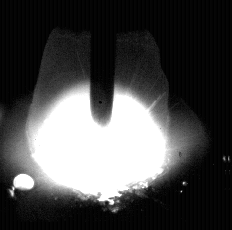arame: (91, 0, 114, 126)
poca: (25, 0, 169, 230)
